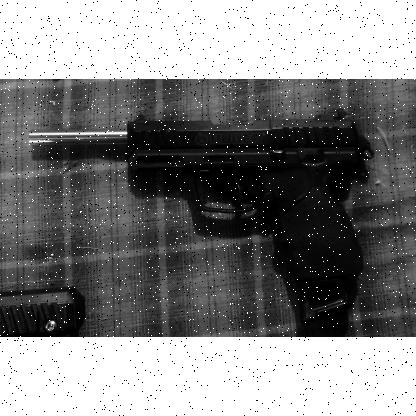gun: (26, 108, 378, 324)
